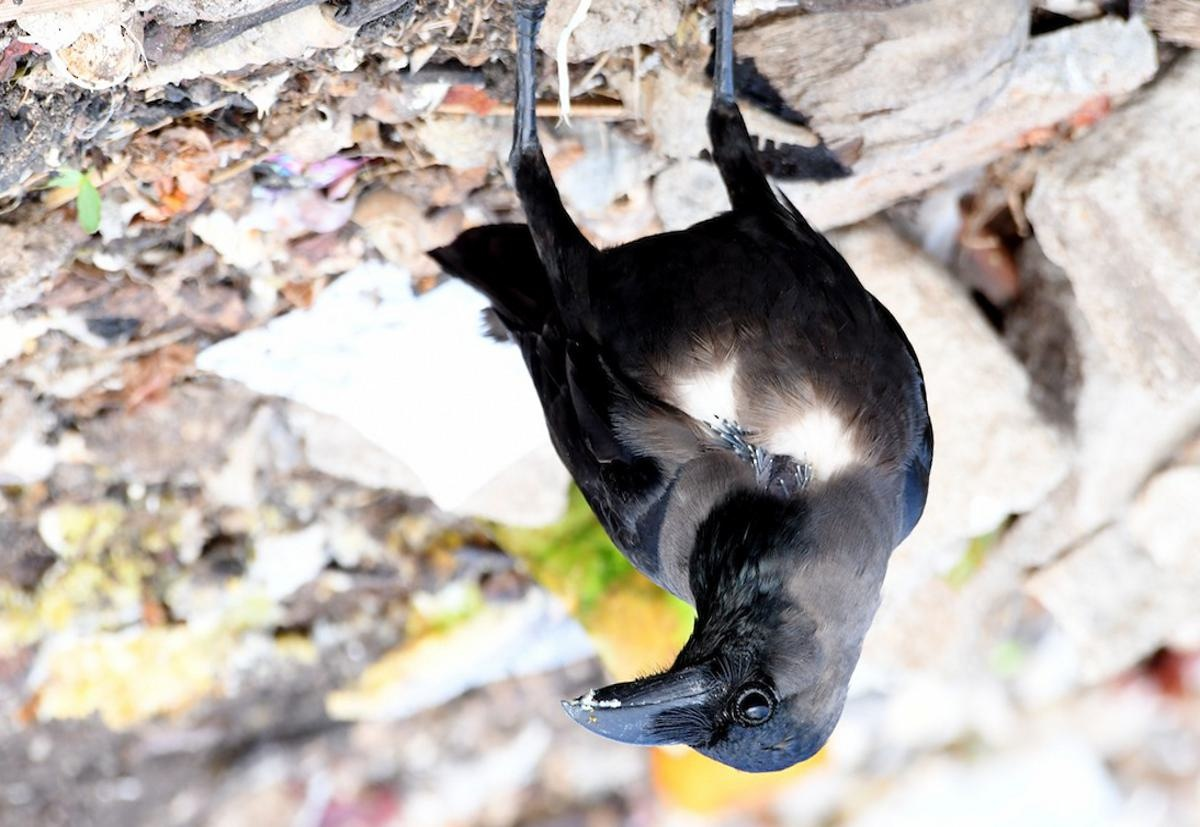crow: (525, 5, 943, 788)
